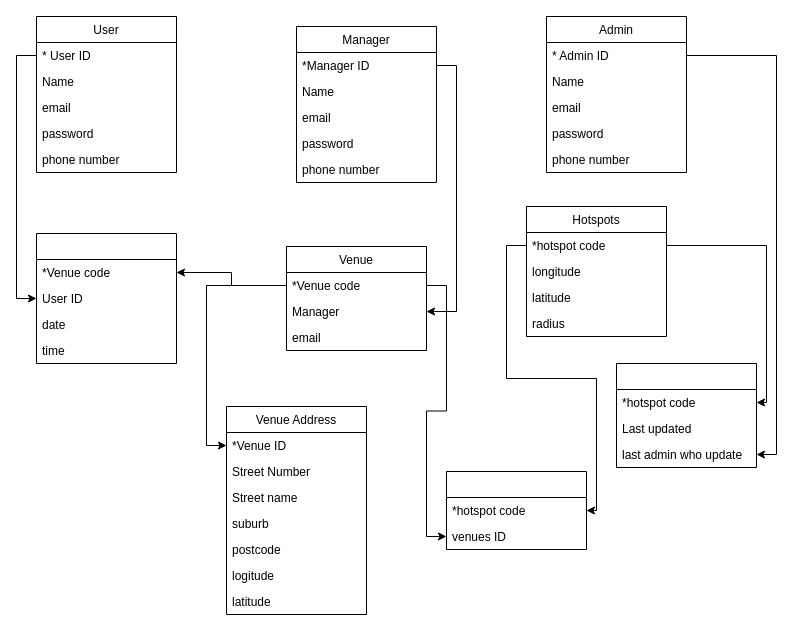
Some shapes in this 793 by 631 pixel diagram are drawn without their labels. The box of each missing label's shape, as (x1, y1, x2, y2) in pixels:
Check-in history: (36, 232, 176, 364)
Hotspot-admin: (616, 362, 756, 468)
Hotspot-venues: (446, 470, 586, 550)
